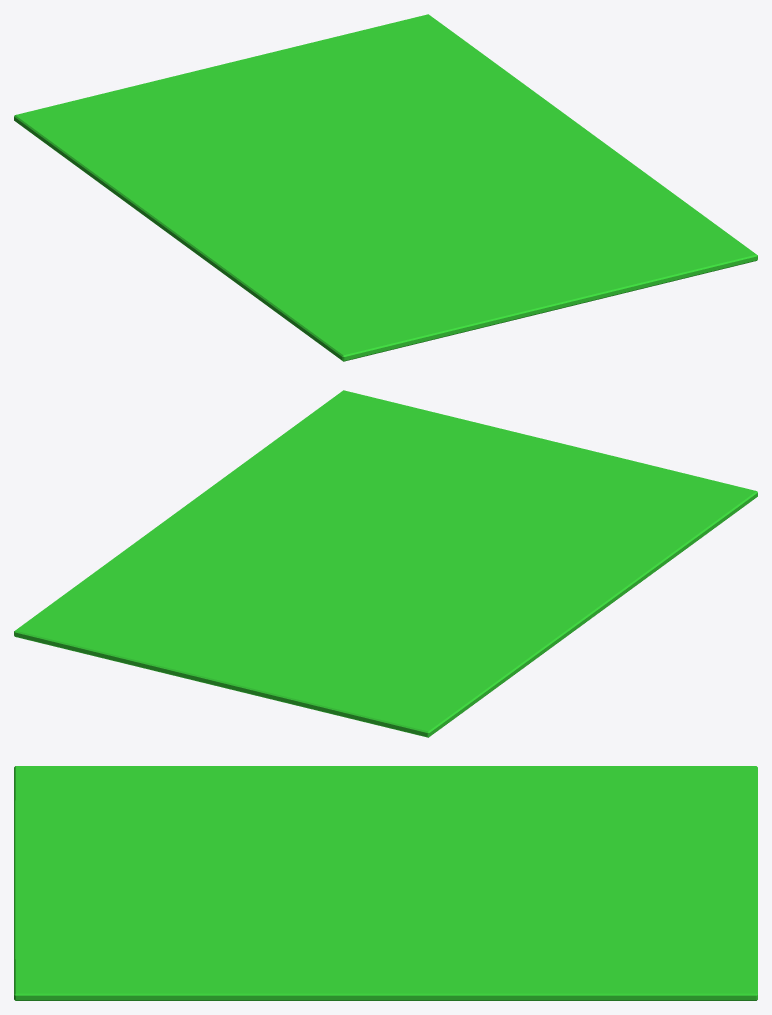
File: Hall_Ceiling.fbx
The picture shows the model from 3 angles, top to bottom: view 1: azimuth 30°, elevation 25°; view 2: azimuth 150°, elevation 25°; view 3: azimuth 270°, elevation 25°; orthographic projection. The views are drawn at different scales.
Parts seen in each view (by area): view 1: Ceiling_Hall; view 2: Ceiling_Hall; view 3: Ceiling_Hall.
Part boxes in pixels (bbox=[...]): Ceiling_Hall: bbox=[14, 14, 757, 361]; Ceiling_Hall: bbox=[14, 390, 757, 737]; Ceiling_Hall: bbox=[14, 766, 757, 1000].
Bounding box in the file's own units: 8.02 × 0.1169 × 11.02.
